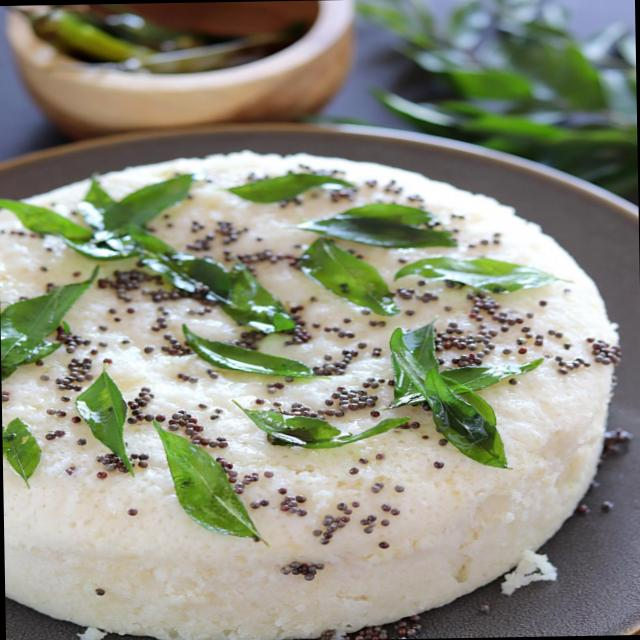dhokla: (0, 143, 613, 640)
